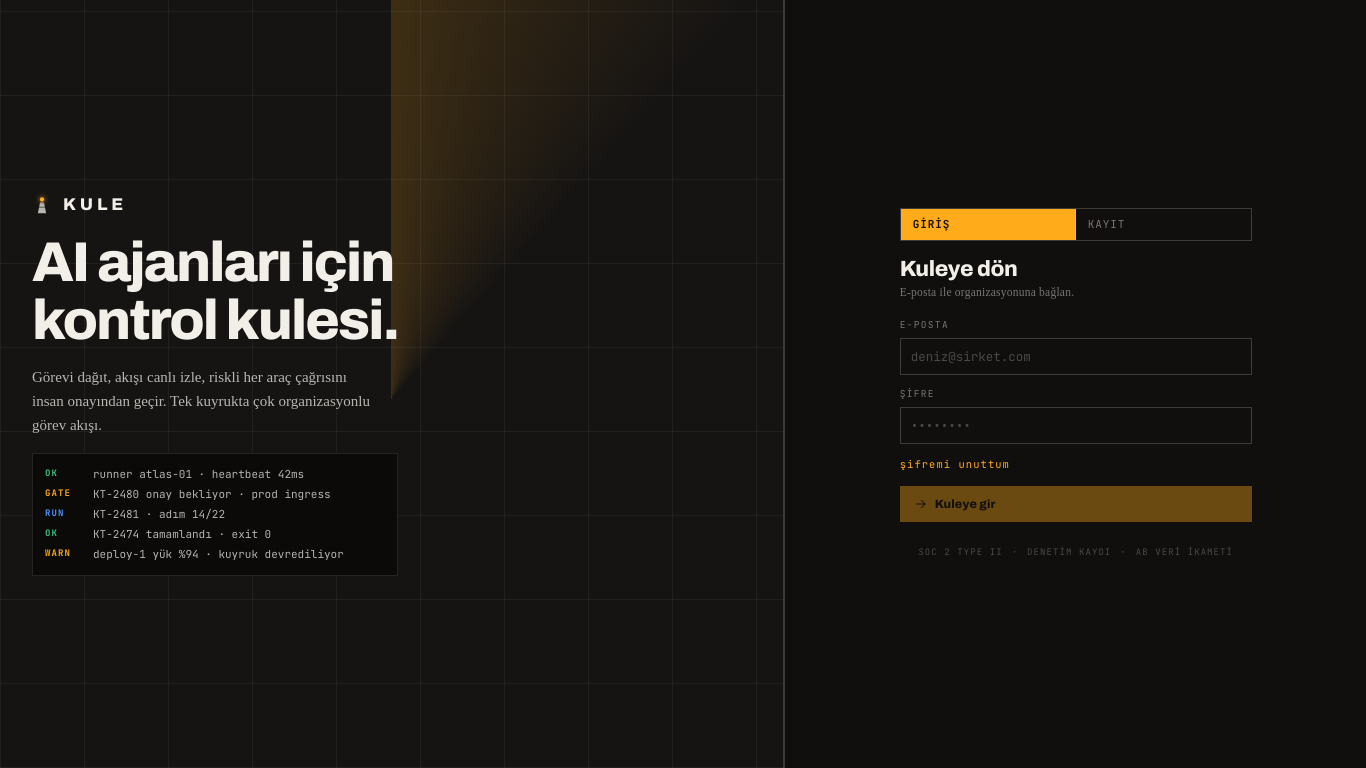
LoginPage › login basarisiz olursa ApiError mesaji gosterilir, session degismez
This screenshot has width=1366, height=768.
Type "dev@test.com" into the field with placeholder "deniz@sirket.com" at (1076,357), box [900,338,1252,375]
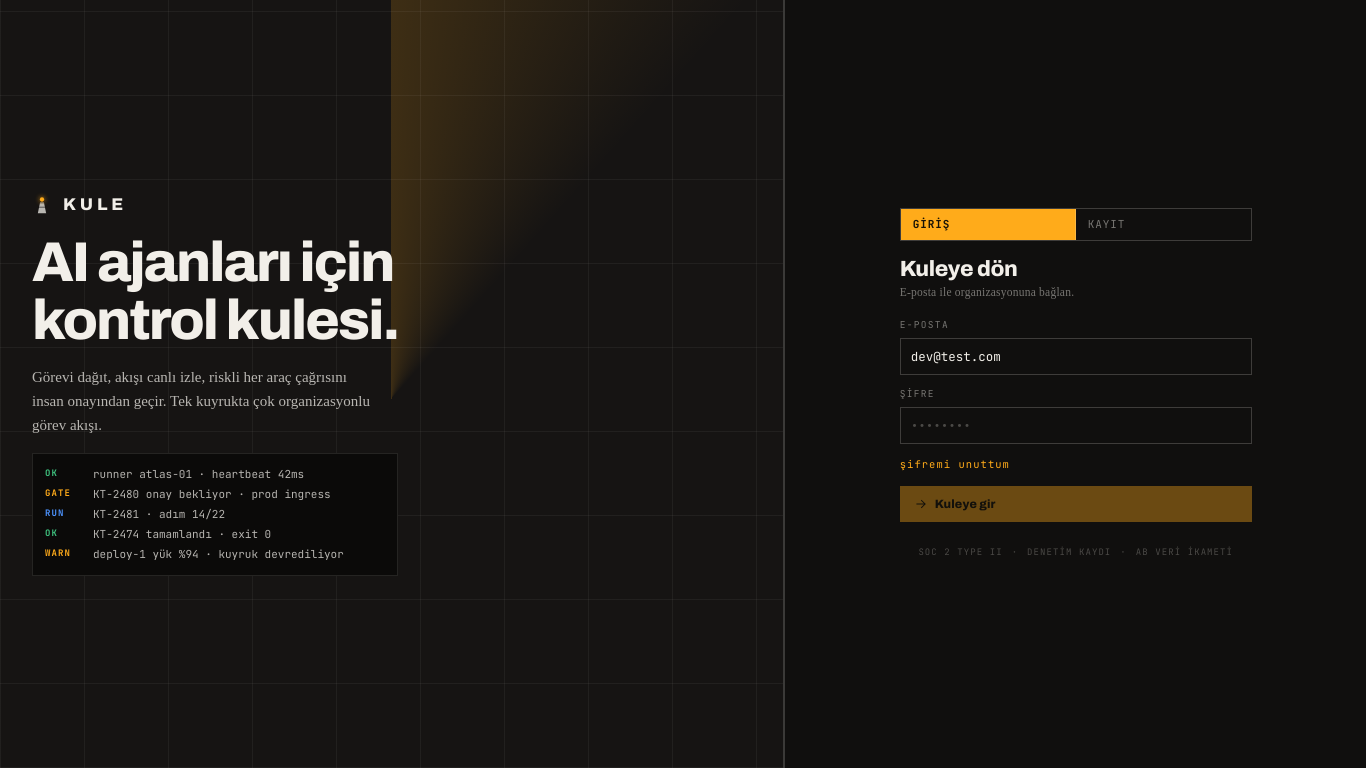
Type "yanlisSifre" into the password field with placeholder "••••••••" at (1076,426), box [900,407,1252,444]
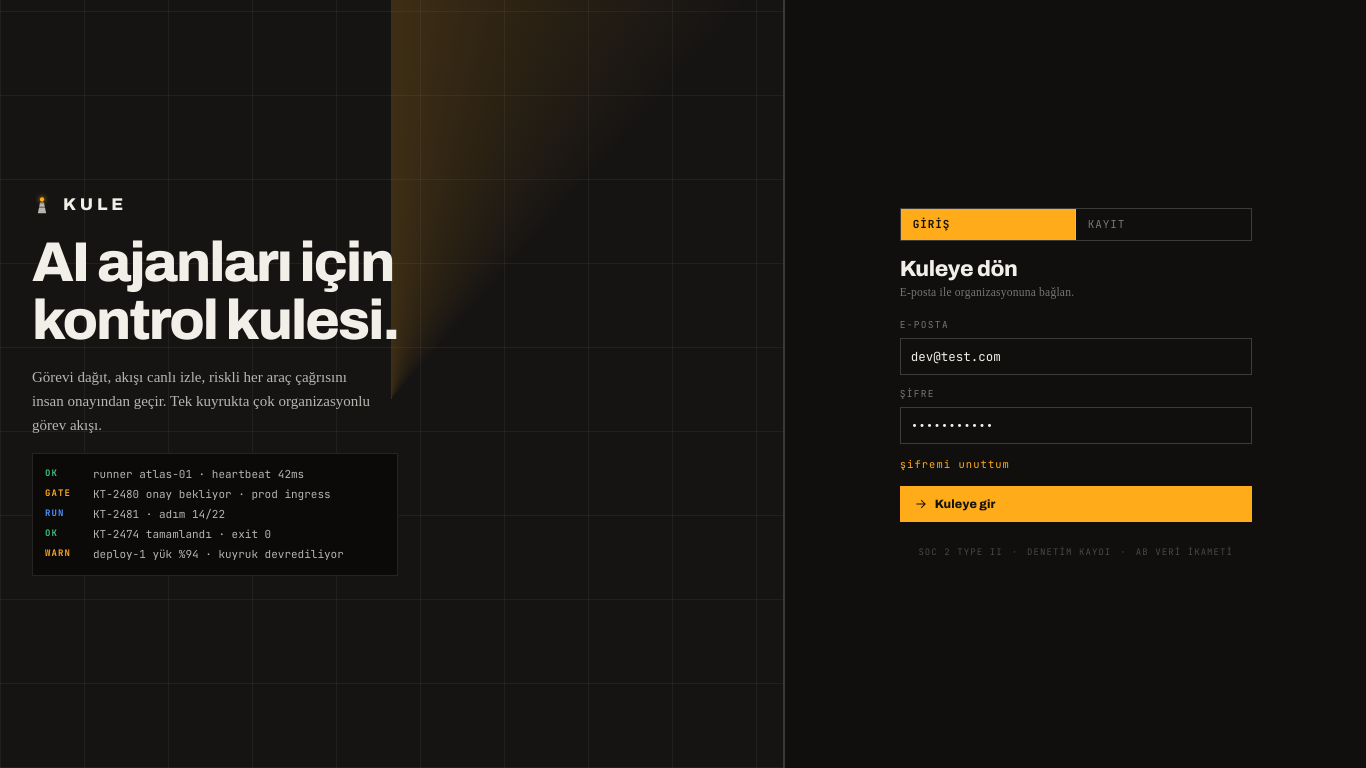
Click the button "Kuleye gir" at (965,504), box [900,486,1252,522]
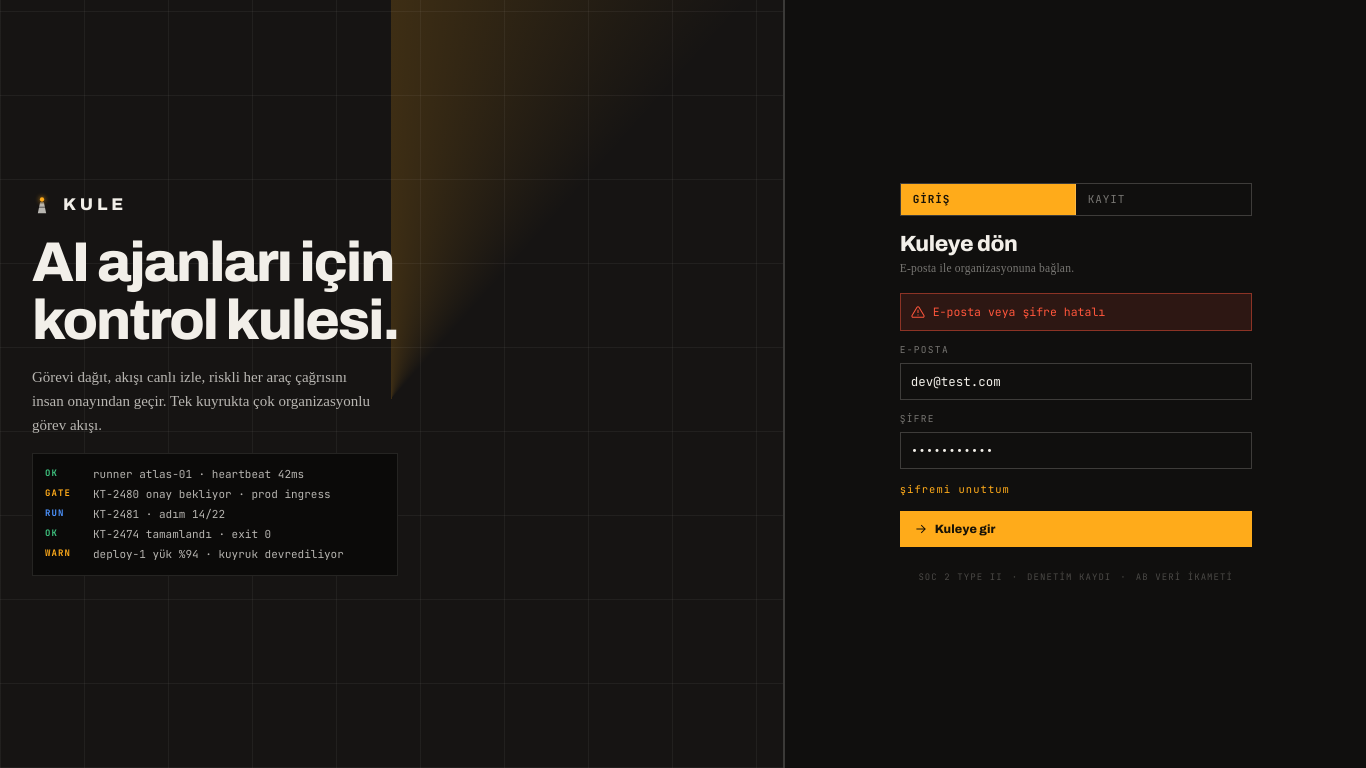
Expected: the text "E-posta veya şifre hatalı" is shown, [933,303,1105,321]
